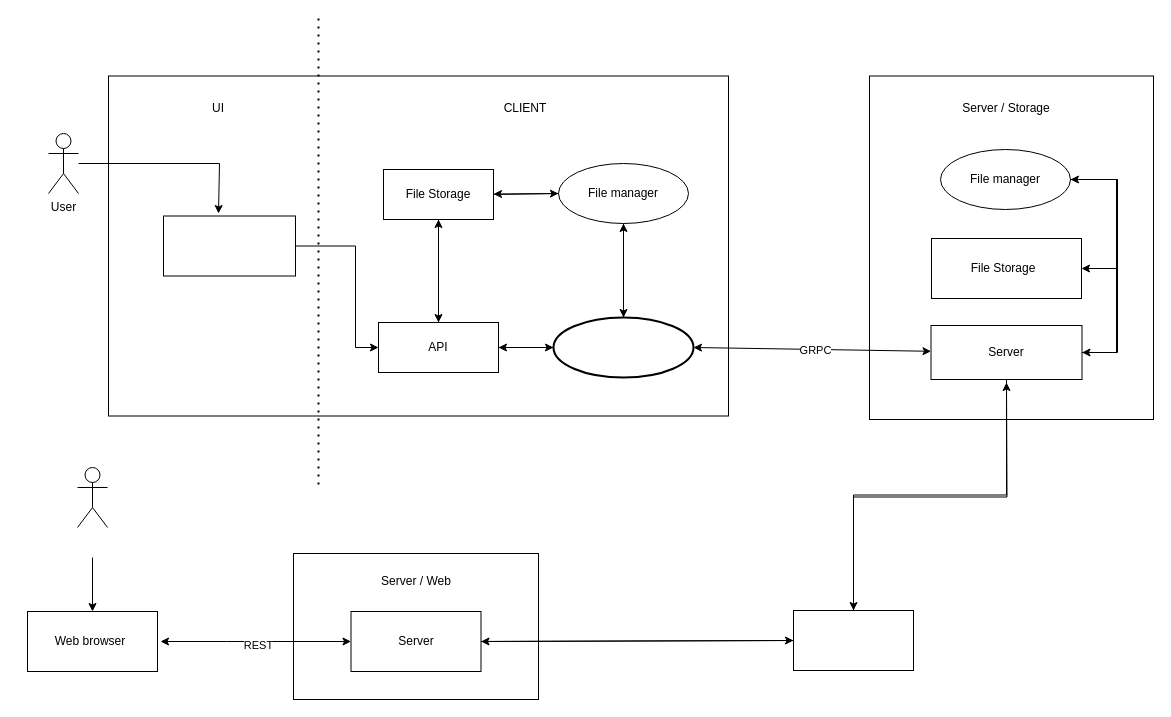
This 1171x717 diagram has some shape labels left out. Each missing label, with the box of its shape:
Admin: (76, 466, 108, 528)
Application: (162, 215, 296, 276)
Encoder | Decoder: (552, 316, 694, 378)
Postgres: (792, 610, 914, 670)
